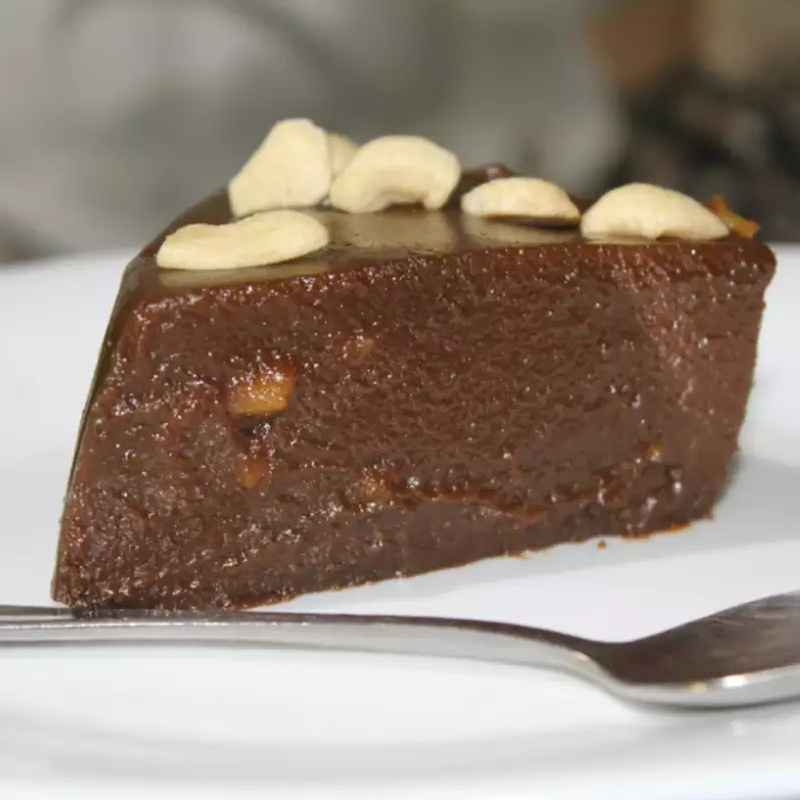dodol: (49, 111, 773, 616)
